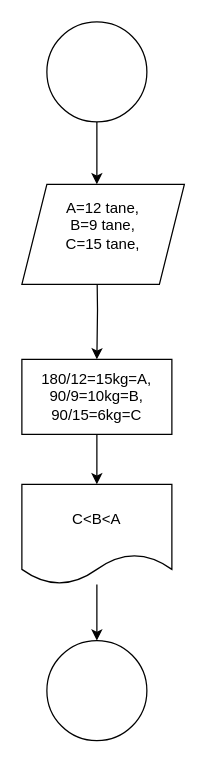
The diagram is 206 pixels wide and 763 high, and some of its shapes have lost their labels. The centre of each missing label's shape, as x and y in pixels:
BAŞLA: the point at 96,71
DUR: the point at 96,690
